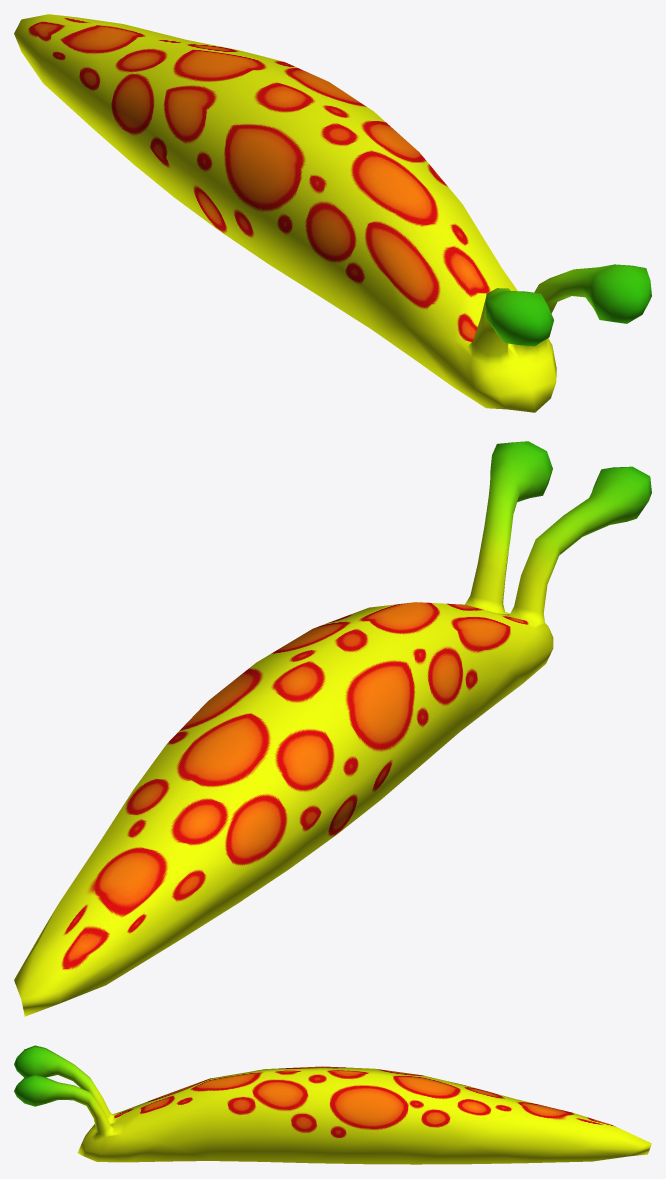
File: Slug.FBX
The picture shows the model from 3 angles, top to bottom: view 1: azimuth 30°, elevation 25°; view 2: azimuth 150°, elevation 25°; view 3: azimuth 270°, elevation 25°; orthographic projection. The views are drawn at different scales.
Visible parts, largest first — view 1: Slug; view 2: Slug; view 3: Slug.
Boxes of the visible parts, <box> form: Slug: <box>14,14,651,412</box>; Slug: <box>14,441,651,1016</box>; Slug: <box>14,1045,651,1164</box>.
Bounding box in the file's own units: 128 × 130 × 791.
